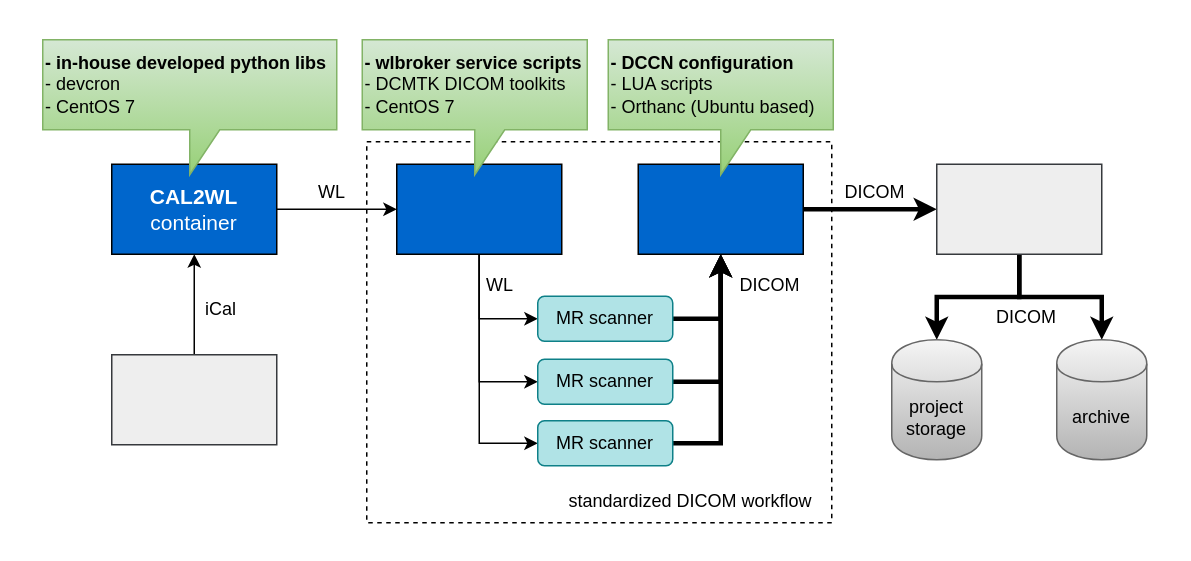
The diagram is 1191 pixels wide and 561 high, and some of its shapes have lost their labels. Here are the shapes that lost their labels. From the top down, the centre of each, then its label:
At (478,208): "WLBROKER container".
At (720,208): "ORTHANC container".
At (1018,208): "STREAMER container".
At (193,399): "lab-booking calendar".
